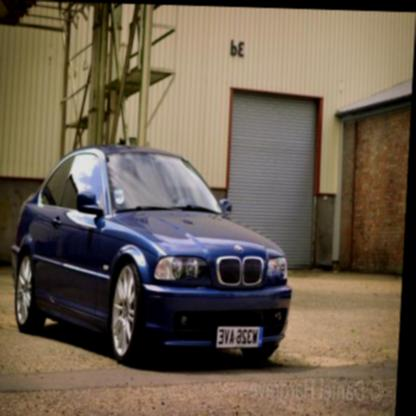License_Plate: (215, 326, 263, 350)
